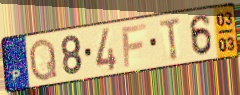4: (94, 25, 119, 74)
6: (188, 13, 214, 57)
8: (60, 34, 84, 77)
F: (120, 22, 148, 70)
Q: (28, 37, 59, 83)
T: (158, 15, 183, 62)
